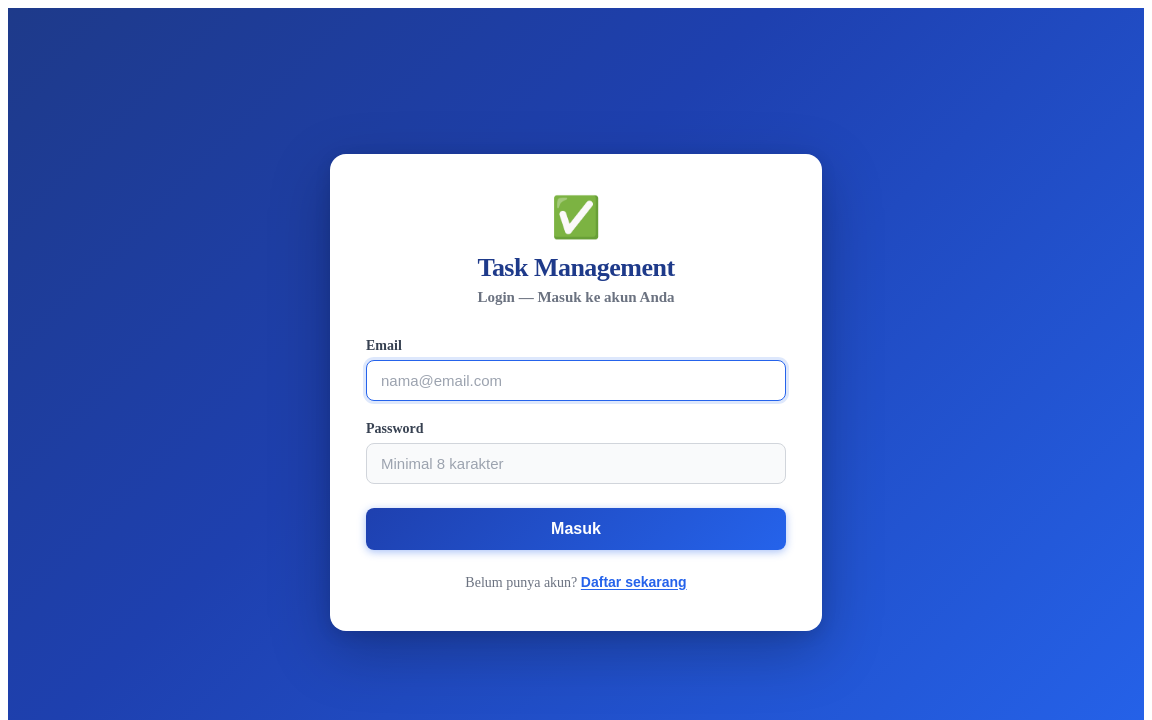
Test: LoginForm › menampilkan pesan error jika login gagal
Type "user@example.com" into the field labelled "Email" at (576, 380), box [366,360,786,400]
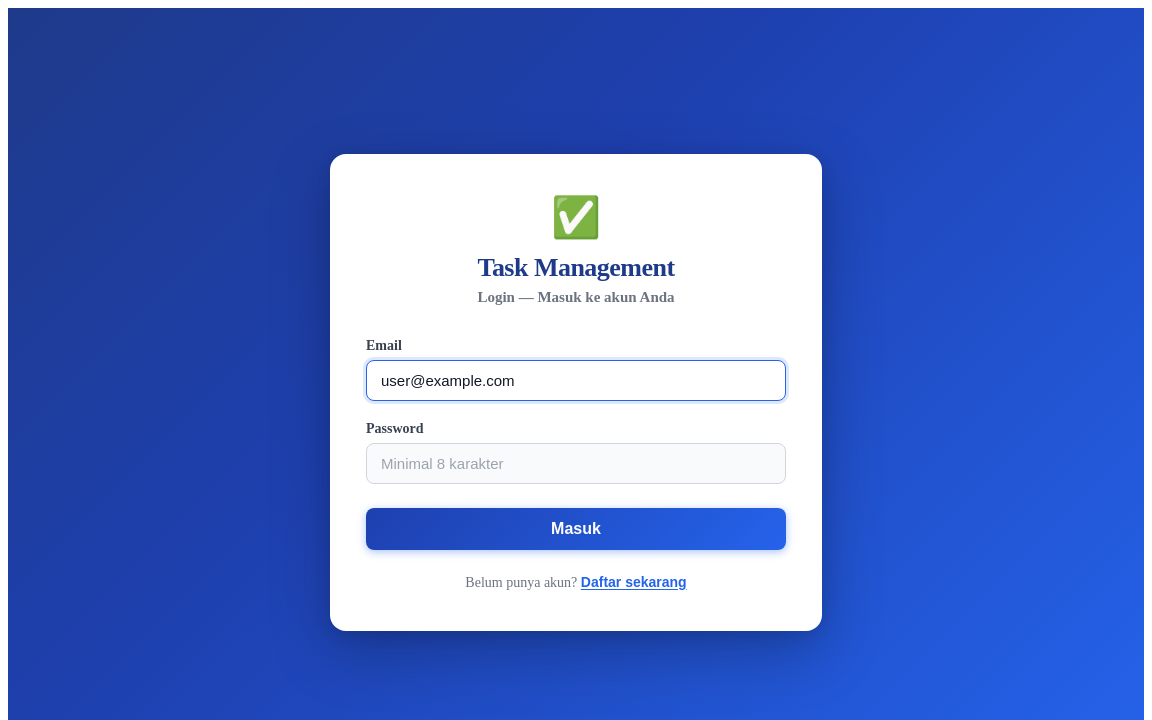
Type "wrongpass" into the password field labelled "Password" at (576, 463), box [366,442,786,484]
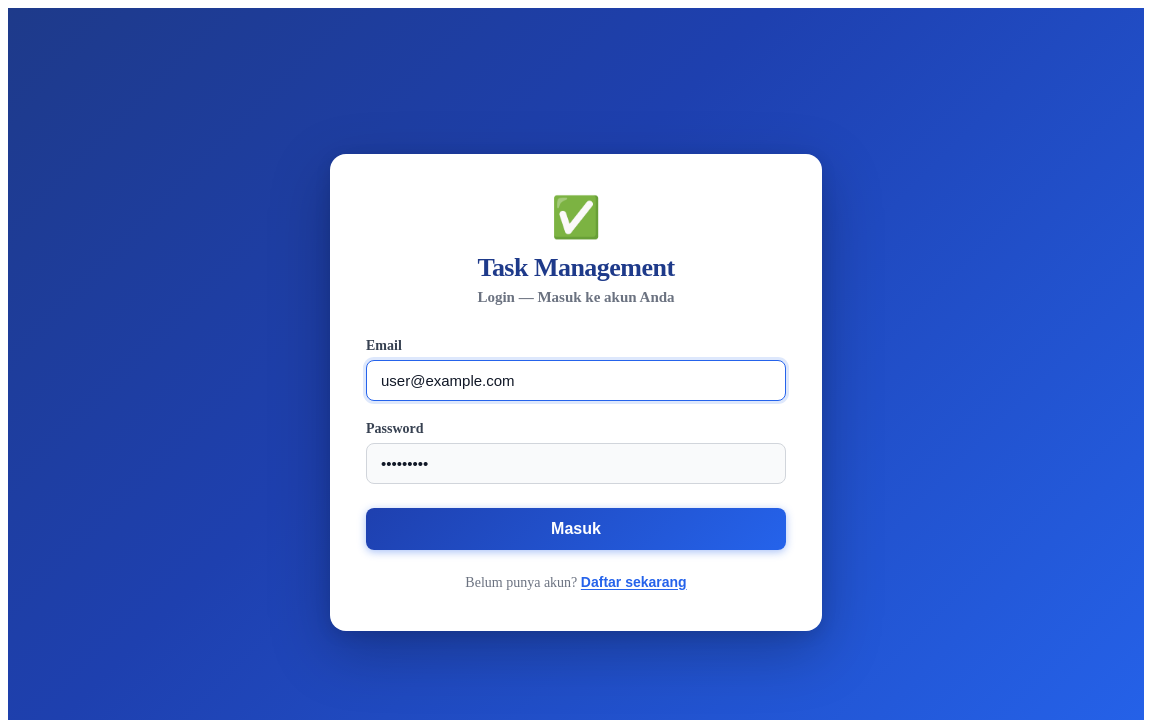
Click the button "Masuk" at (576, 528), box [366,508,786,550]
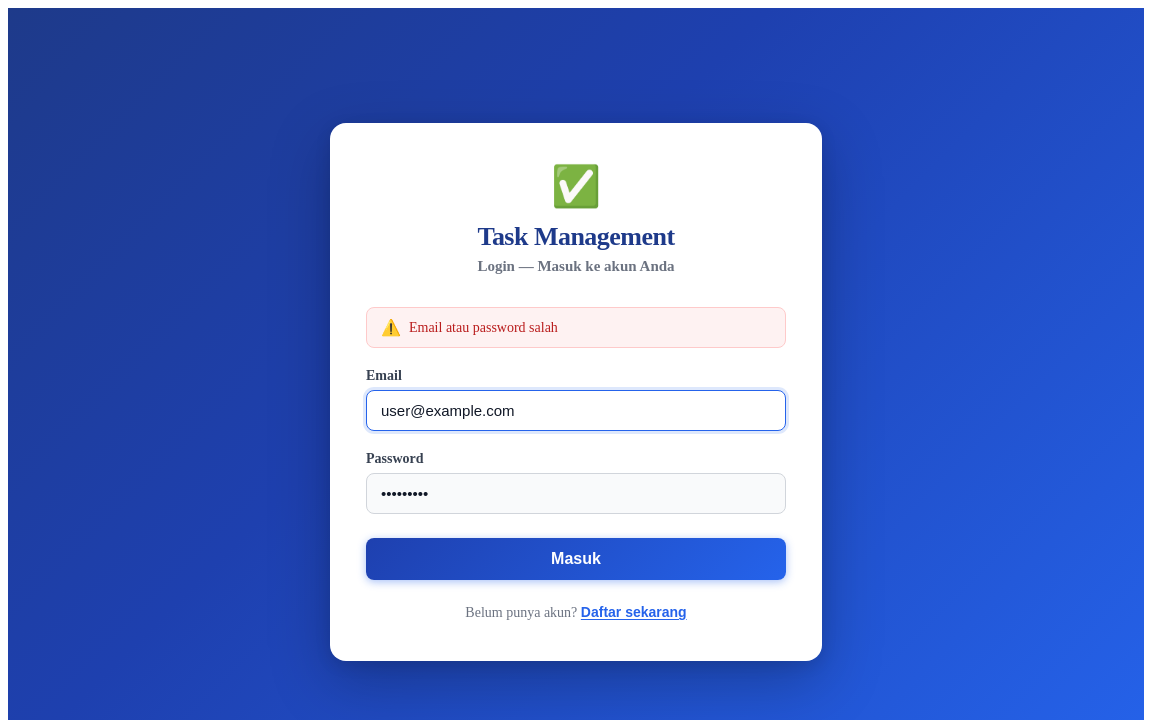
Now the message shows "Email atau password salah", box [409,320,558,334]
